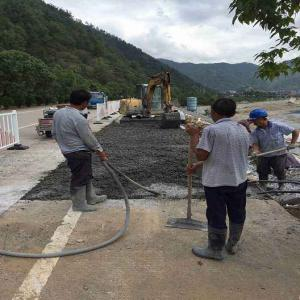blue: (249, 108, 271, 130)
none: (209, 98, 239, 124), (66, 90, 94, 112)
